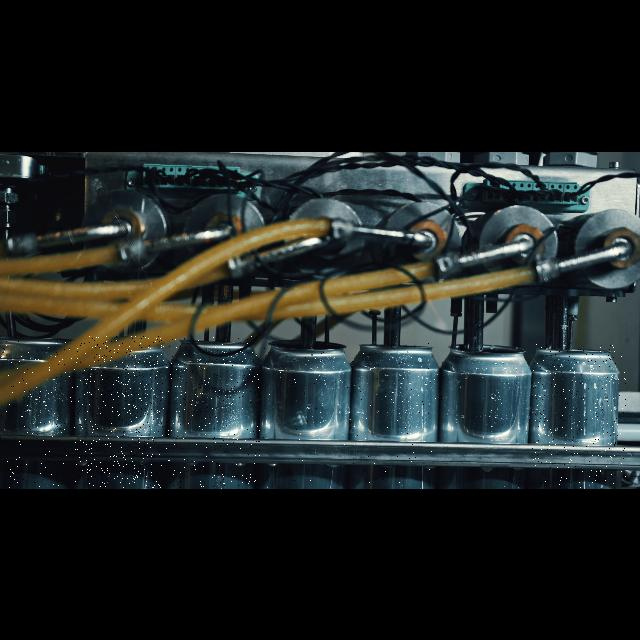empty: (166, 336, 260, 488), (532, 342, 626, 488), (76, 336, 164, 488), (441, 340, 531, 488), (352, 340, 442, 488), (263, 338, 349, 488), (0, 340, 76, 488)
